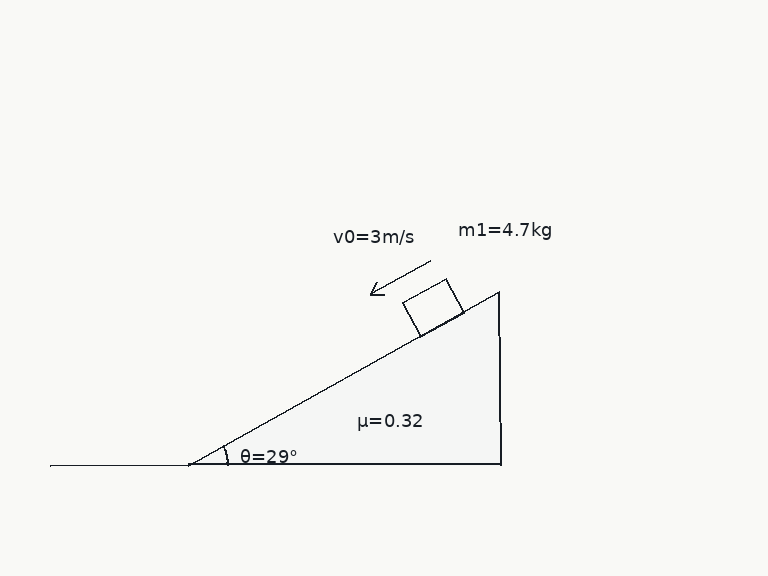block: (400, 277, 466, 338)
ramp: (186, 290, 501, 467)
